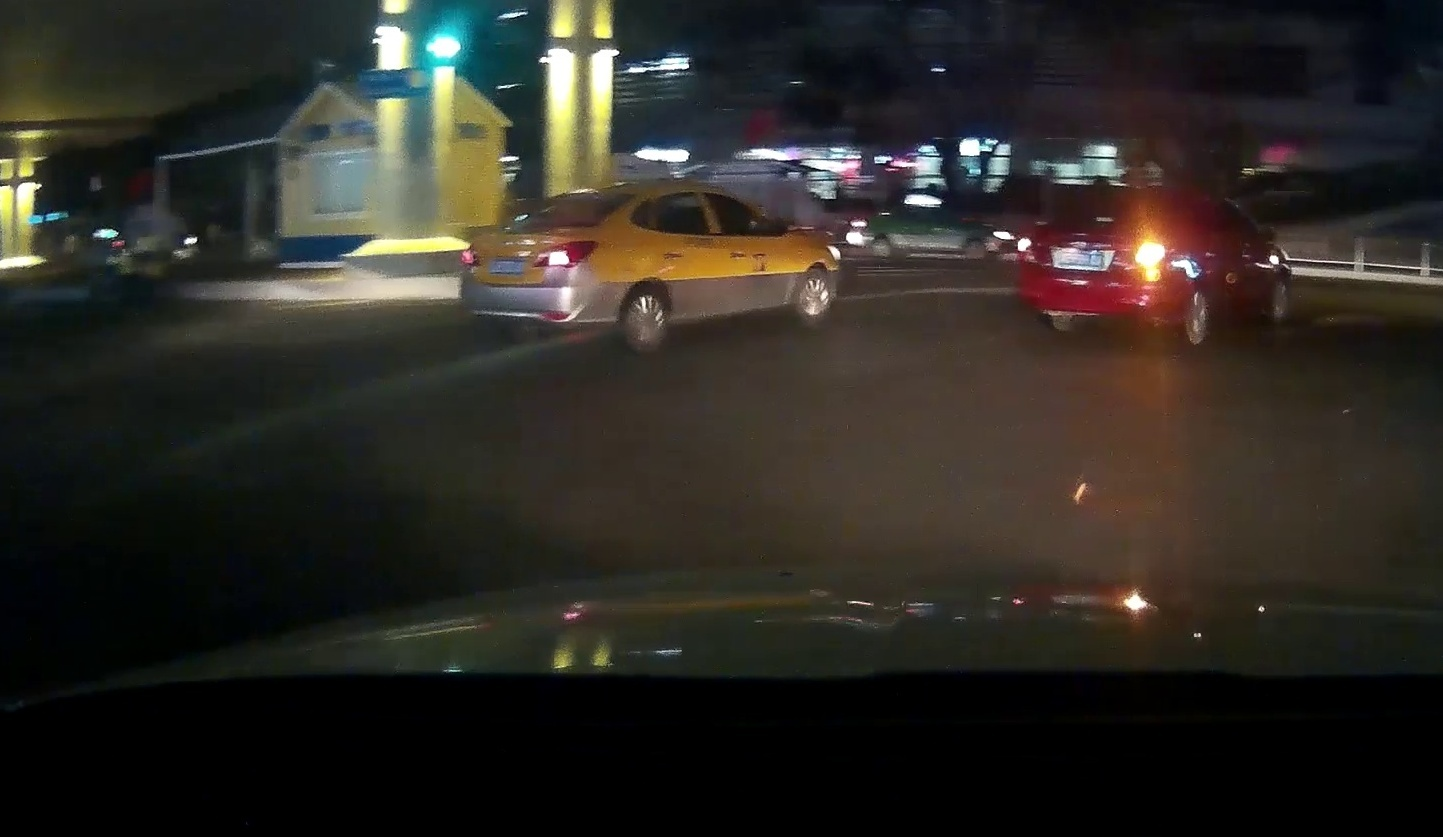L_light: (1017, 236, 1040, 265), (461, 244, 481, 268)
R_light: (531, 240, 598, 268), (1135, 241, 1167, 268)
T_light: (1095, 216, 1115, 222), (532, 223, 555, 226)
night-no: (459, 181, 640, 357)
night-right: (1017, 187, 1175, 349)
